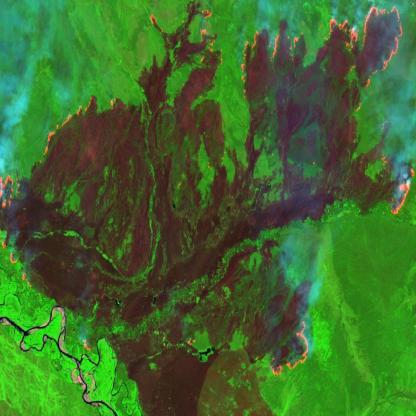fire: (237, 0, 416, 218), (0, 84, 96, 299), (146, 5, 228, 66), (270, 316, 314, 380)
